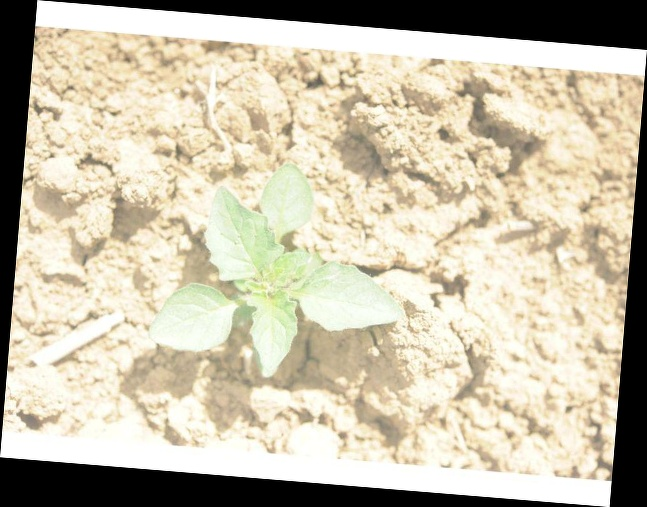nightshade: (155, 164, 406, 379)
